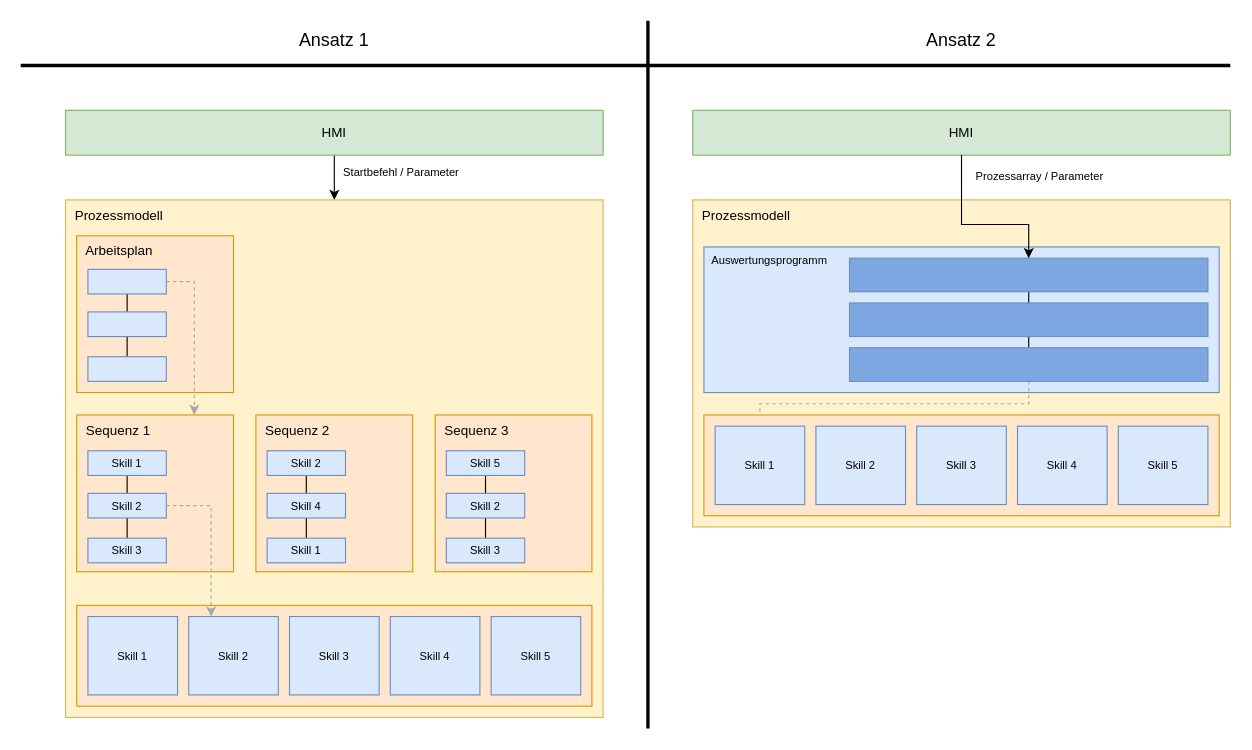
Some shapes in this 1252 by 750 pixel diagram are drawn without their labels. Here are the shapes that lost their labels. From the top down, the centre of each, then its label:
At point (126, 281): "Seq1".
At point (1028, 274): "Auswerten von Array".
At point (126, 324): "Seq2".
At point (1028, 319): "Vorbereiten der Daten".
At point (126, 368): "Seq3".
At point (1028, 364): "Ausführen von Skill".
